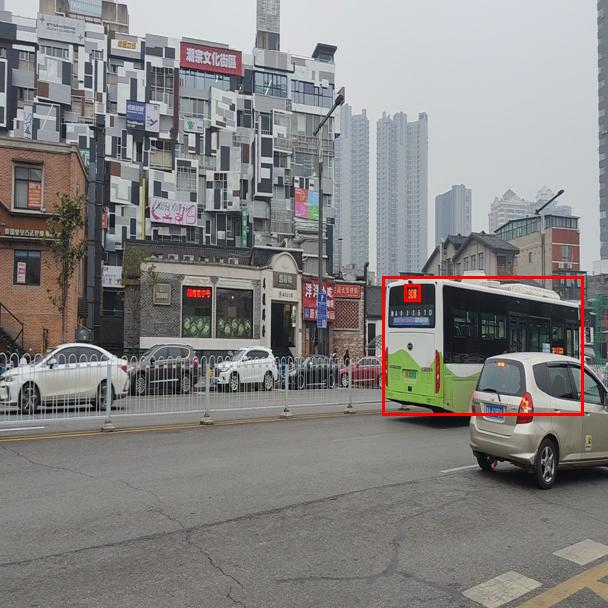bus: (382, 276, 583, 415)
screen: (404, 284, 420, 301)
